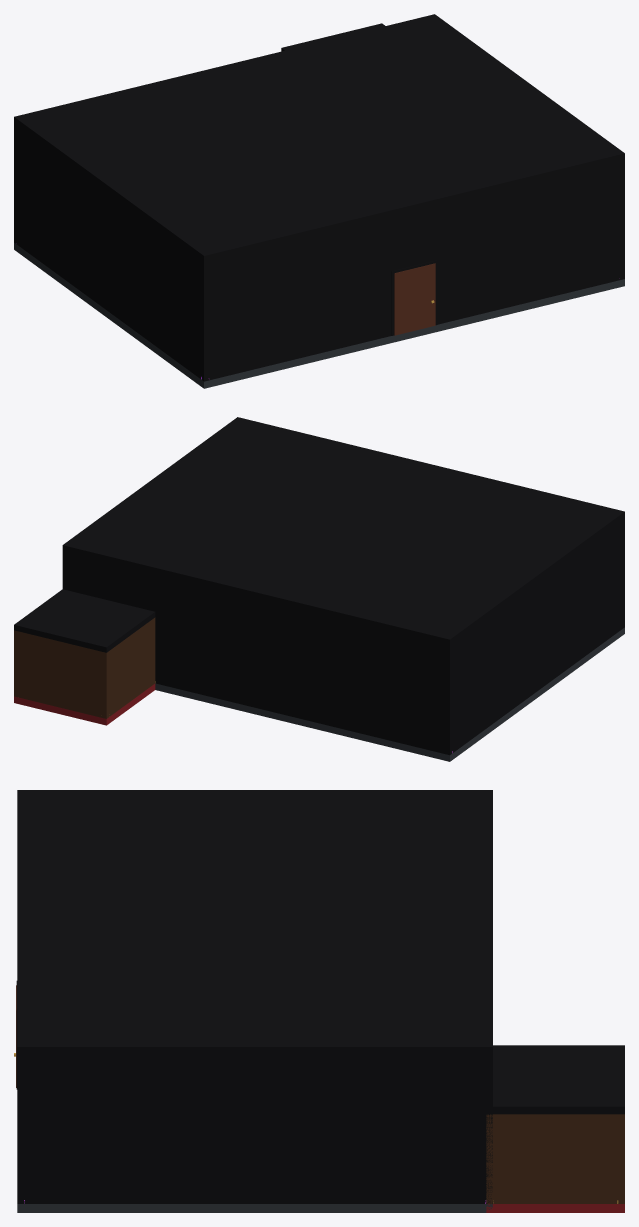
The model's file is nightclub.glb.
The picture shows the model from 3 angles, top to bottom: view 1: azimuth 30°, elevation 25°; view 2: azimuth 150°, elevation 25°; view 3: azimuth 270°, elevation 25°; orthographic projection. The views are drawn at different scales.
Parts seen in each view (by area): view 1: nightclub; view 2: nightclub; view 3: nightclub.
Part boxes in pixels (bbox=[...]): nightclub: bbox=[14, 14, 624, 388]; nightclub: bbox=[14, 417, 624, 761]; nightclub: bbox=[14, 790, 624, 1212].
Size of what is drawn, in the model's own units: 18.4 by 5.55 by 18.5.
